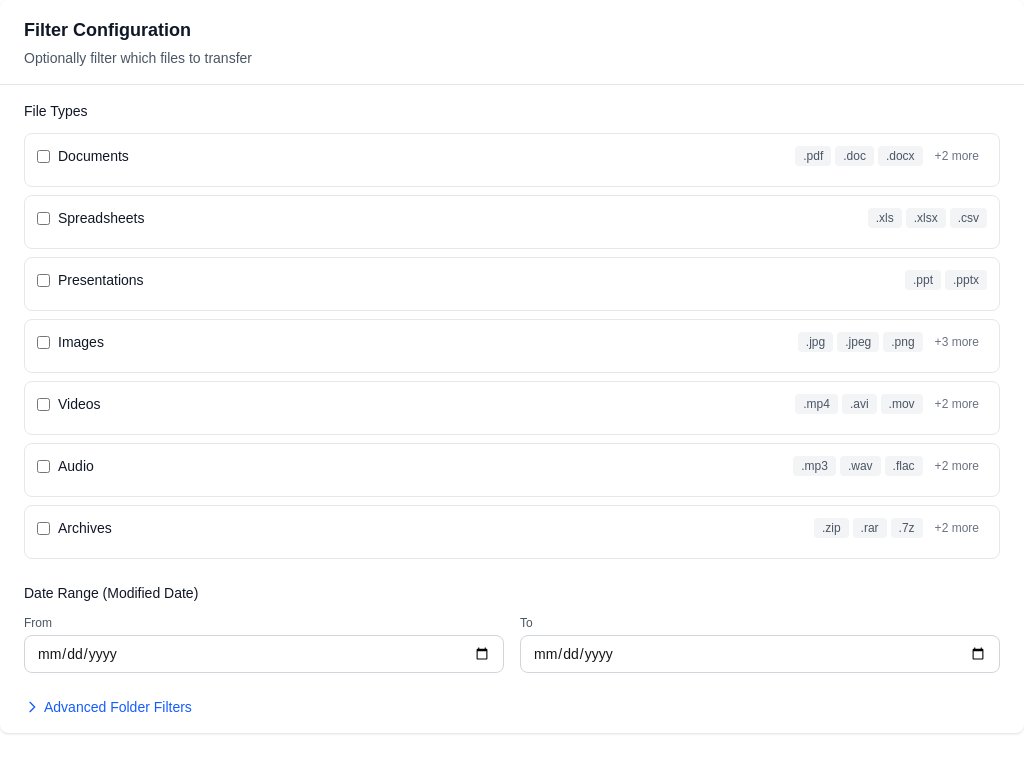
it: FilterConfiguration Component › shows advanced folder filters when button clicked
The image size is (1024, 768).
Click the button "Advanced Folder Filters".
click(108, 707)  # box [24,697,192,717]
(page scrolled)
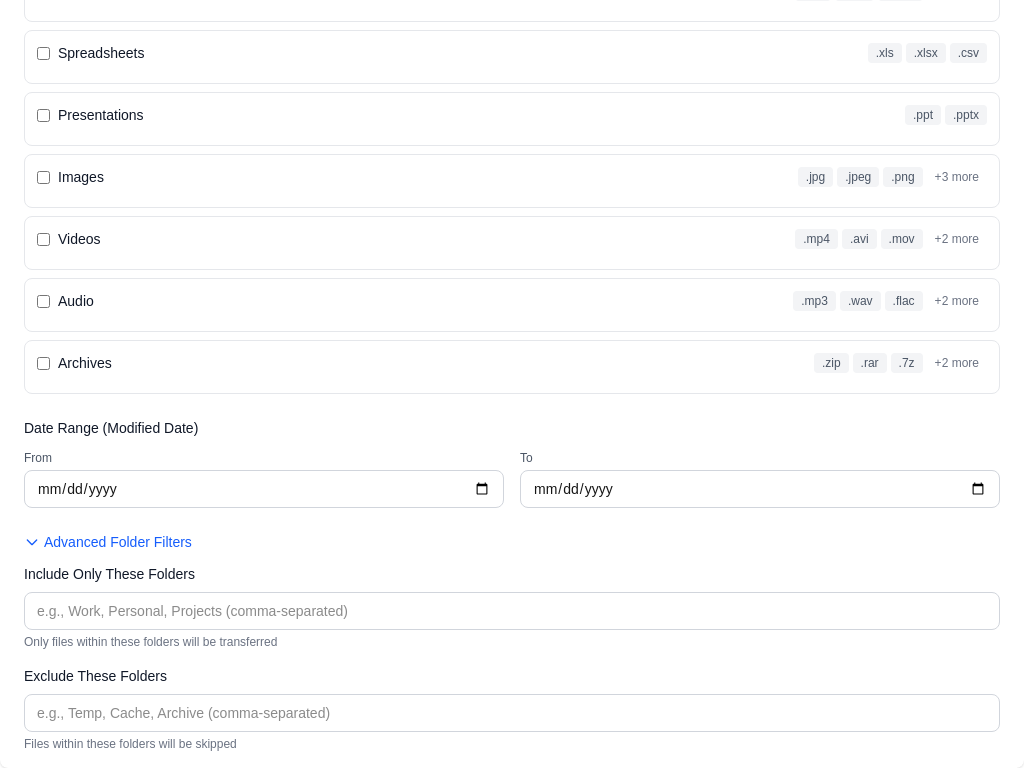
Expected: the text "Include Only These Folders" is shown, [24,566,195,582]
Expected: the text "Exclude These Folders" is shown, [24,668,167,684]
